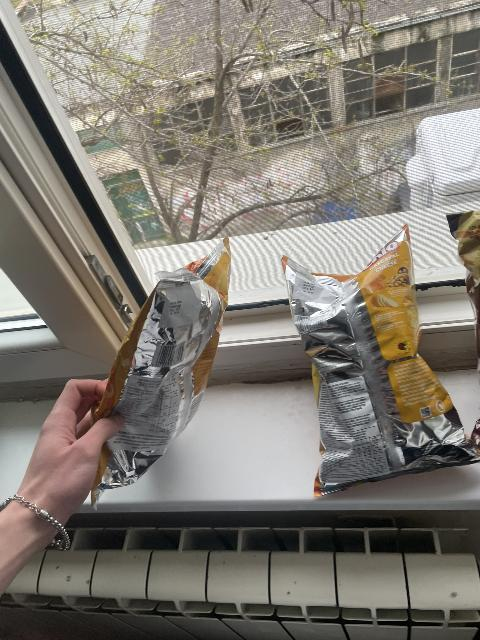Chio Cascaval 125g: (277, 227, 480, 500)
Chio Hula Hoops Cheese 70g: (89, 244, 229, 505)
